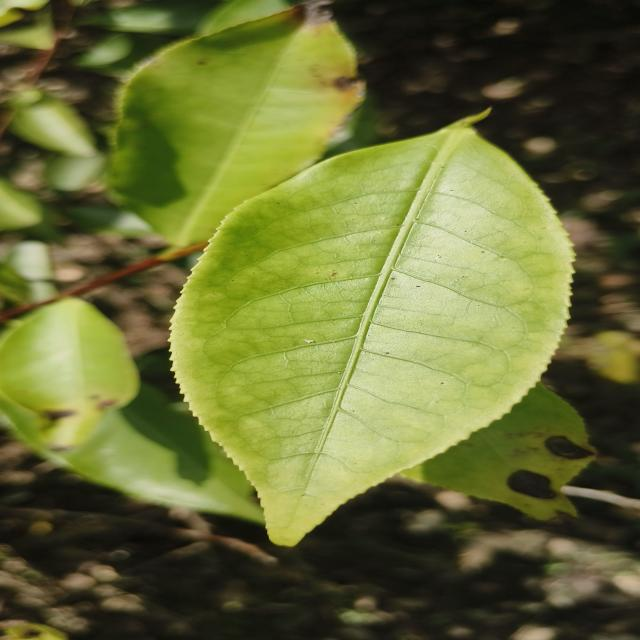Leaf: (171, 115, 571, 545), (109, 0, 364, 247), (46, 385, 263, 525), (421, 383, 594, 519), (0, 298, 139, 449), (10, 89, 97, 156), (0, 177, 62, 242), (0, 241, 57, 302), (0, 400, 46, 455), (45, 153, 106, 191)
